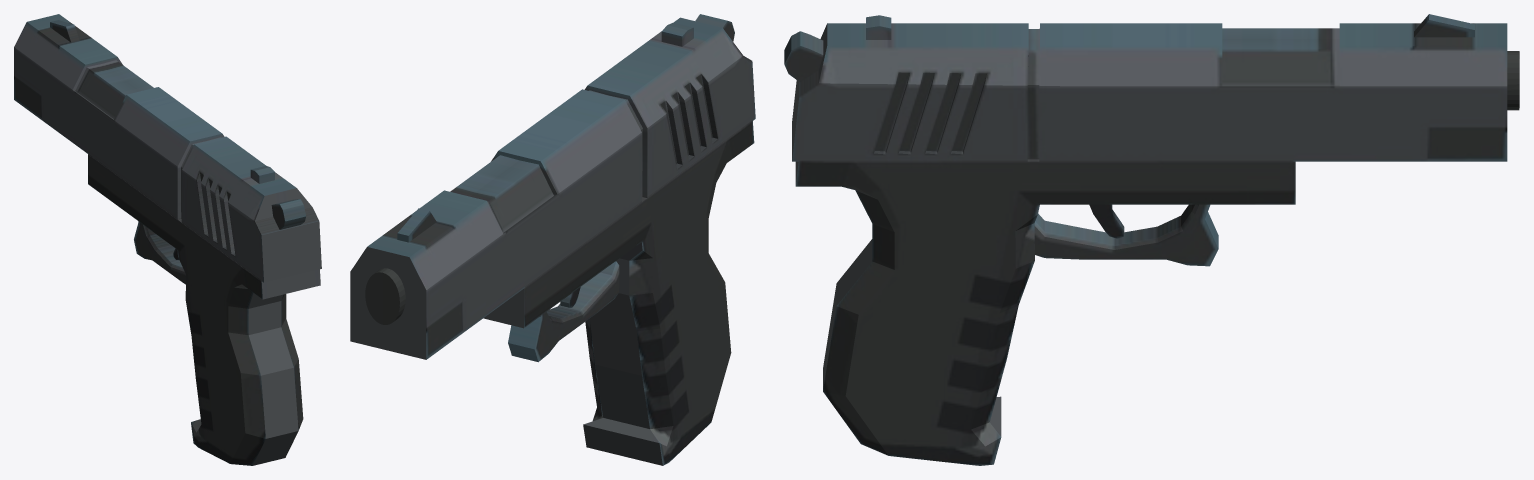
File: GunHandle.fbx
3 renders of one model, left to right at view 1: azimuth 30°, elevation 25°; view 2: azimuth 150°, elevation 25°; view 3: azimuth 270°, elevation 25°, orthographic. The views are drawn at different scales.
Visible parts, largest first — view 1: Barrel.001; view 2: Barrel.001; view 3: Barrel.001.
Boxes of the visible parts, <box> form: Barrel.001: <box>14,14,321,465</box>; Barrel.001: <box>350,14,755,465</box>; Barrel.001: <box>784,14,1519,465</box>.
Size of the model in its own units: 32.37 by 160 by 248.
